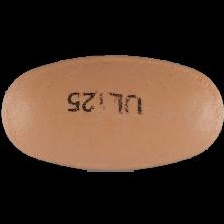61786-175: (0, 0, 224, 224)
